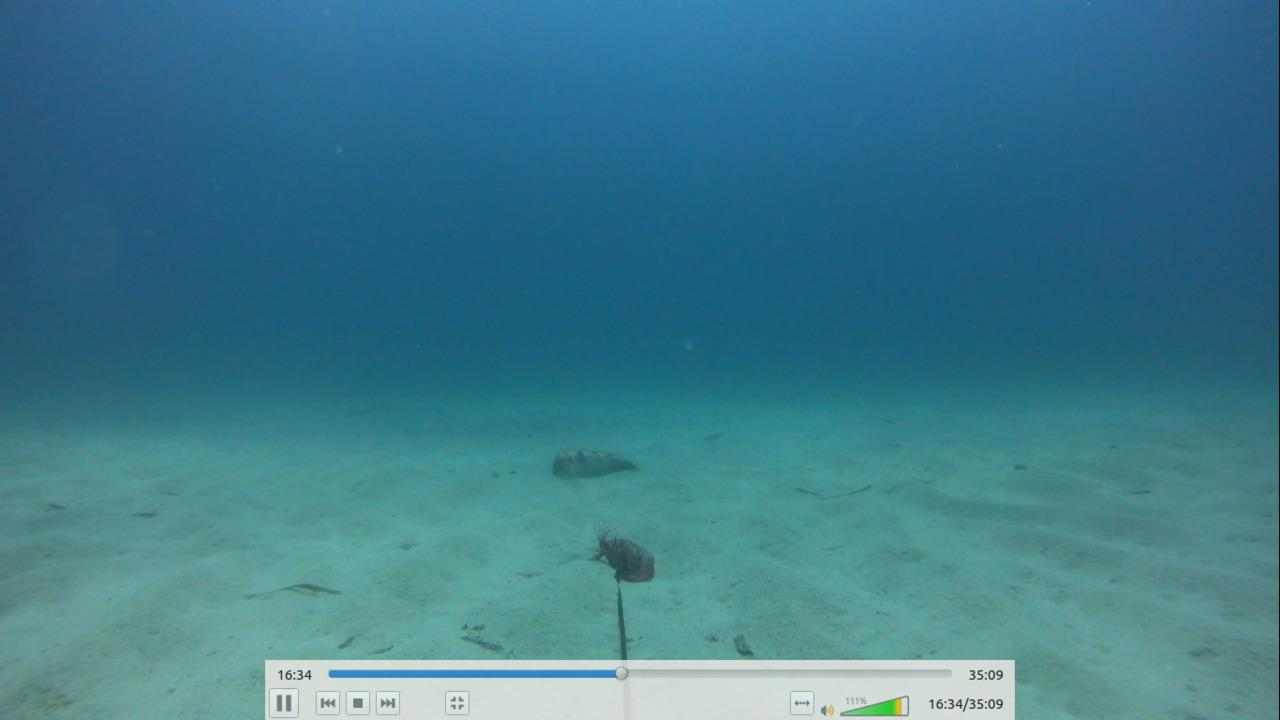raor: (542, 442, 641, 482)
